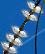gap: (11, 8, 37, 38)
